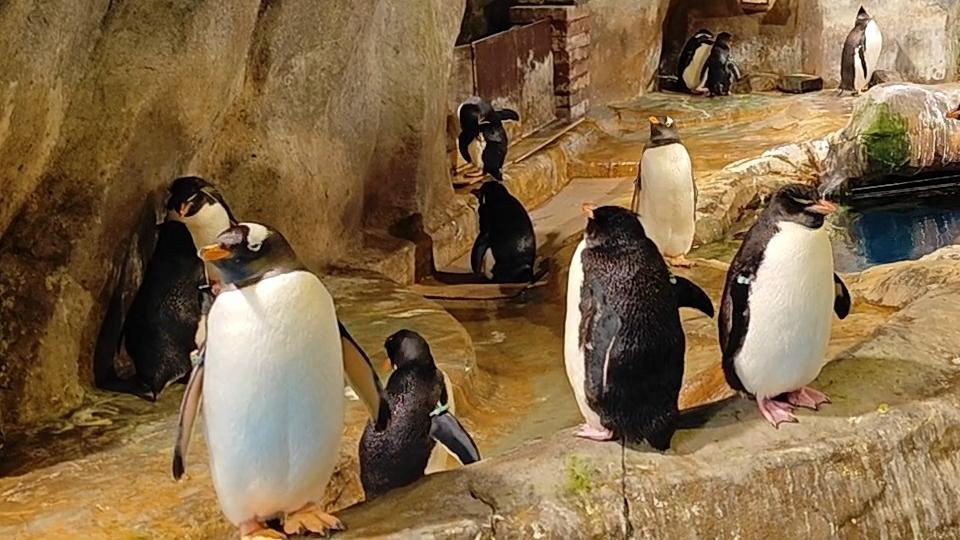Southern Rockhopper Penguin: (551, 201, 716, 461), (713, 174, 858, 435), (354, 320, 490, 509), (126, 209, 215, 393), (159, 164, 252, 269), (466, 182, 540, 294), (449, 97, 518, 180), (699, 29, 745, 103), (669, 27, 717, 96), (941, 85, 960, 235)
